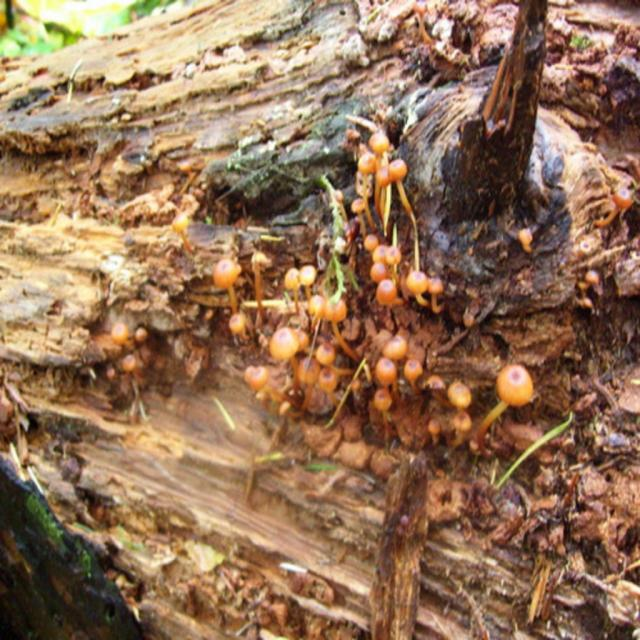Mushroom: (210, 130, 470, 445), (478, 365, 532, 449), (594, 188, 634, 225), (118, 357, 136, 391), (111, 323, 133, 348), (133, 328, 149, 357), (517, 230, 533, 254)
